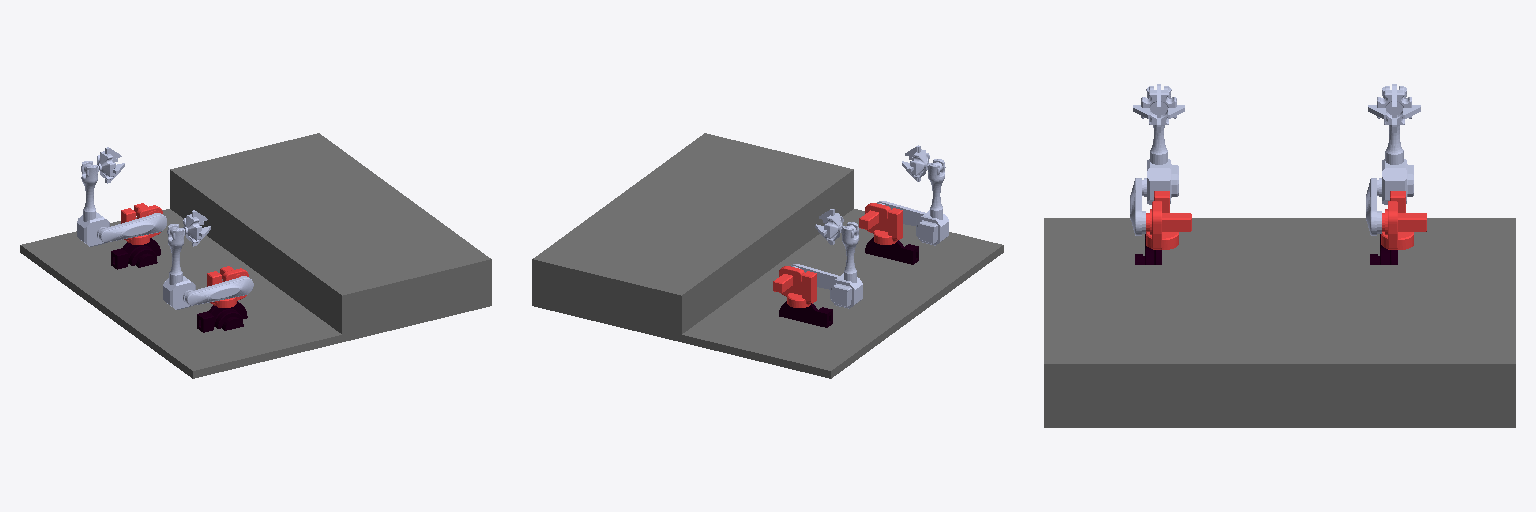
--- Facts derived from the render (not from the file) ---
3 views of the same robot in one strip: view 1: azimuth 30°, elevation 25°; view 2: azimuth 150°, elevation 25°; view 3: azimuth 270°, elevation 25° (orthographic).
Robot: my_robot — 27 links, 26 joints (10 revolute, 2 continuous, 14 fixed); root link central_base_link; default pose: every joint at zero.
Links seen in each view (by area): view 1: main_workbench_2, main_workbench, left_arm_link_2, right_arm_link_2, right_base_link, left_base_link, right_arm_link_3, left_arm_link_3, right_arm_link_1, left_arm_link_1, left_arm_link_4, right_arm_link_4; view 2: main_workbench_2, main_workbench, left_arm_link_1, right_arm_link_1, right_arm_link_3, left_arm_link_3, left_base_link, right_base_link, left_arm_link_4, right_arm_link_4; view 3: main_workbench_2, main_workbench, right_arm_link_1, left_arm_link_1, left_arm_link_3, right_arm_link_3, right_eef_link, left_eef_link, right_arm_link_2, left_arm_link_2.
Link boxes in pixels (bbox=[...]): main_workbench_2: bbox=[170, 133, 491, 341]; main_workbench: bbox=[20, 209, 341, 378]; left_arm_link_2: bbox=[99, 213, 166, 242]; right_arm_link_2: bbox=[185, 276, 253, 305]; right_base_link: bbox=[197, 301, 247, 332]; left_base_link: bbox=[111, 238, 160, 269]; right_arm_link_3: bbox=[163, 273, 195, 309]; left_arm_link_3: bbox=[77, 211, 109, 246]; right_arm_link_1: bbox=[207, 266, 248, 307]; left_arm_link_1: bbox=[121, 203, 162, 244]; left_arm_link_4: bbox=[81, 161, 98, 211]; right_arm_link_4: bbox=[167, 224, 184, 275]; main_workbench_2: bbox=[532, 133, 853, 341]; main_workbench: bbox=[682, 209, 1003, 378]; left_arm_link_1: bbox=[773, 266, 816, 307]; right_arm_link_1: bbox=[859, 203, 902, 244]; right_arm_link_3: bbox=[916, 209, 948, 245]; left_arm_link_3: bbox=[830, 272, 862, 308]; left_base_link: bbox=[779, 301, 832, 327]; right_base_link: bbox=[865, 237, 918, 264]; left_arm_link_4: bbox=[841, 222, 858, 273]; right_arm_link_4: bbox=[928, 159, 945, 210]; main_workbench_2: bbox=[1044, 265, 1515, 427]; main_workbench: bbox=[1044, 218, 1515, 264]; right_arm_link_1: bbox=[1146, 191, 1191, 249]; left_arm_link_1: bbox=[1381, 191, 1426, 249]; left_arm_link_3: bbox=[1377, 151, 1413, 204]; right_arm_link_3: bbox=[1142, 152, 1178, 204]; right_eef_link: bbox=[1141, 90, 1176, 124]; left_eef_link: bbox=[1377, 90, 1411, 124]; right_arm_link_2: bbox=[1130, 178, 1145, 235]; left_arm_link_2: bbox=[1366, 178, 1381, 235].
Size in the robot's own frame: 4 by 4 by 1.8 metres.
24 mesh visuals loaded from 12 distinct referenced files (12 binary STL).

robot.urdf — my_robot:
<?xml version="1.0" ?>
<!-- =================================================================================== -->
<!-- |    This document was autogenerated by xacro from robot.xacro                    | -->
<!-- |    EDITING THIS FILE BY HAND IS NOT RECOMMENDED                                 | -->
<!-- =================================================================================== -->
<robot name="my_robot">
  <link name="main_workbench">
    <inertial>
      <origin rpy="0 0 0" xyz="0 0 0.05"/>
      <mass value="1000.0"/>
      <inertia ixx="100" ixy="0" ixz="0" iyy="100" iyz="0" izz="100"/>
    </inertial>
    <visual>
      <origin rpy="0 0 0" xyz="0 0 0.05"/>
      <geometry>
        <box size="2 4 0.1"/>
      </geometry>
      <material name="grey">
        <color rgba="0.5 0.5 0.5 1"/>
        <!-- Workbench color -->
      </material>
    </visual>
    <collision>
      <origin rpy="0 0 0" xyz="0 0 0.05"/>
      <geometry>
        <box size="2 4 0.1"/>
      </geometry>
    </collision>
  </link>
  <link name="main_workbench_2">
    <inertial>
      <origin rpy="0 0 0" xyz="0 0 0.3"/>
      <mass value="1000.0"/>
      <inertia ixx="100" ixy="0" ixz="0" iyy="100" iyz="0" izz="100"/>
    </inertial>
    <visual>
      <origin rpy="0 0 0" xyz="0 0 0.3"/>
      <geometry>
        <box size="2 4 0.6"/>
      </geometry>
      <material name="grey">
        <color rgba="0.5 0.5 0.5 1"/>
        <!-- Workbench color -->
      </material>
    </visual>
    <collision>
      <origin rpy="0 0 0" xyz="0 0 0.3"/>
      <geometry>
        <box size="2 4 0.6"/>
      </geometry>
    </collision>
  </link>
  <!-- Main body link (central base link) -->
  <link name="central_base_link">
    <origin rpy="0 0 0" xyz="0 0 1.5"/>
    <!-- Adjusted to be above the workbench -->
  </link>
  <!-- Connect each workbench to the central base link with a fixed joint -->
  <joint name="base_to_workbench_1_joint" type="fixed">
    <parent link="central_base_link"/>
    <child link="main_workbench"/>
    <origin rpy="0 0 0" xyz="0 0 0"/>
    <!-- Adjust this origin as needed -->
  </joint>
  <joint name="base_to_workbench_2_joint" type="fixed">
    <parent link="central_base_link"/>
    <child link="main_workbench_2"/>
    <origin rpy="0 0 0" xyz="2.0 0 0"/>
    <!-- Adjust this origin as needed -->
  </joint>
  <!-- Define the base link of the arm -->
  <link name="left_base_link">
    <inertial>
      <origin rpy="0 0 0" xyz="0 1 0.1"/>
      <mass value="33.891578448587"/>
      <inertia ixx="0.562042604088221" ixy="-9.14376784490416E-12" ixz="0.00403961419511076" iyy="0.970694427805805" iyz="-7.30601560182848E-12" izz="1.29713482615658"/>
    </inertial>
    <visual>
      <origin rpy="0 0 0" xyz="0 0 0"/>
      <geometry>
        <mesh filename="package://my_robot_urdf/meshes/base_link.STL"/>
      </geometry>
      <material name="">
        <color rgba="0.152941176470588 0 0.117647058823529 1"/>
      </material>
    </visual>
    <collision>
      <origin rpy="0 0 0" xyz="0 0 0"/>
      <geometry>
        <mesh filename="package://my_robot_urdf/meshes/base_link.STL"/>
      </geometry>
    </collision>
  </link>
  <!-- Define the joint connecting this arm to the parent link -->
  <joint name="left_base_joint" type="fixed">
    <origin rpy="0 0 0" xyz="0 1 0.1"/>
    <parent link="central_base_link"/>
    <child link="left_base_link"/>
  </joint>
  <link name="left_arm_link_1">
    <inertial>
      <origin rpy="0 0 0" xyz="0.0416589398280025 -3.68988089329334E-05 0.19712083516126"/>
      <mass value="26.7048266497369"/>
      <inertia ixx="0.495499615132855" ixy="-0.0102760504758245" ixz="-0.0600935399650257" iyy="0.766768677077223" iyz="-0.0115358881770517" izz="0.604967931690783"/>
    </inertial>
    <visual>
      <origin rpy="0 0 0" xyz="0 0 0"/>
      <geometry>
        <mesh filename="package://my_robot_urdf/meshes/arm_link_1.STL"/>
      </geometry>
      <material name="">
        <color rgba="1 0.309803921568627 0.309803921568627 1"/>
      </material>
    </visual>
    <collision>
      <origin rpy="0 0 0" xyz="0 0 0"/>
      <geometry>
        <mesh filename="package://my_robot_urdf/meshes/arm_link_1.STL"/>
      </geometry>
    </collision>
  </link>
  <joint name="left_arm_joint_1" type="revolute">
    <origin rpy="0 0 0" xyz="0 0 0.234000000000013"/>
    <parent link="left_base_link"/>
    <child link="left_arm_link_1"/>
    <axis xyz="0 0 1"/>
    <limit effort="0" lower="-3.1416" upper="3.1416" velocity="0"/>
  </joint>
  <link name="left_arm_link_2">
    <inertial>
      <origin rpy="0 0 0" xyz="-0.290203503422467 0.000258724363916829 0.0707589768311214"/>
      <mass value="14.3270690802686"/>
      <inertia ixx="0.0504590836189902" ixy="4.64678003354567E-05" ixz="0.0137202067906074" iyy="0.848873613210201" iyz="-0.000175299197197552" izz="0.874803778149419"/>
    </inertial>
    <visual>
      <origin rpy="0 0 0" xyz="0 0 0"/>
      <geometry>
        <mesh filename="package://my_robot_urdf/meshes/arm_link_2.STL"/>
      </geometry>
      <material name="">
        <color rgba="0.792156862745098 0.819607843137255 0.933333333333333 1"/>
      </material>
    </visual>
    <collision>
      <origin rpy="0 0 0" xyz="0 0 0"/>
      <geometry>
        <mesh filename="package://my_robot_urdf/meshes/arm_link_2.STL"/>
      </geometry>
    </collision>
  </link>
  <joint name="left_arm_joint_2" type="revolute">
    <origin rpy="1.5707963267949 0 0" xyz="0.150000000000002 -0.1375 0.265"/>
    <parent link="left_arm_link_1"/>
    <child link="left_arm_link_2"/>
    <axis xyz="0 0 1"/>
    <limit effort="0" lower="-3.1416" upper="3.1416" velocity="0"/>
  </joint>
  <link name="left_arm_link_3">
    <inertial>
      <origin rpy="0 0 0" xyz="0.0664637155357432 0.0362614171159604 0.123132908024542"/>
      <mass value="27.1450417424437"/>
      <inertia ixx="0.420912669748457" ixy="-0.0211648441841247" ixz="-0.00675660536457725" iyy="0.344868303293538" iyz="0.00338242702861573" izz="0.473964503565446"/>
    </inertial>
    <visual>
      <origin rpy="0 0 0" xyz="0 0 0"/>
      <geometry>
        <mesh filename="package://my_robot_urdf/meshes/arm_link_3.STL"/>
      </geometry>
      <material name="">
        <color rgba="0.792156862745098 0.819607843137255 0.933333333333333 1"/>
      </material>
    </visual>
    <collision>
      <origin rpy="0 0 0" xyz="0 0 0"/>
      <geometry>
        <mesh filename="package://my_robot_urdf/meshes/arm_link_3.STL"/>
      </geometry>
    </collision>
  </link>
  <joint name="left_arm_joint_3" type="continuous">
    <origin rpy="3.14159265358979 0 3.14159265358979" xyz="-0.700000000000001 0 0"/>
    <parent link="left_arm_link_2"/>
    <child link="left_arm_link_3"/>
    <axis xyz="0 0 -1"/>
    <limit effort="0" lower="-3.1416" upper="3.1416" velocity="0"/>
  </joint>
  <link name="left_arm_link_4">
    <inertial>
      <origin rpy="0 0 0" xyz="5.19381656460816E-07 4.95817308893837E-07 0.338893744219759"/>
      <mass value="7.96664349020365"/>
      <inertia ixx="0.223048843574734" ixy="-0.000166072999280483" ixz="4.33220175839122E-07" iyy="0.215976713293833" iyz="-3.48765154255128E-07" izz="0.0300827685994122"/>
    </inertial>
    <visual>
      <origin rpy="0 0 0" xyz="0 0 0"/>
      <geometry>
        <mesh filename="package://my_robot_urdf/meshes/arm_link_4.STL"/>
      </geometry>
      <material name="">
        <color rgba="0.792156862745098 0.819607843137255 0.933333333333333 1"/>
      </material>
    </visual>
    <collision>
      <origin rpy="0 0 0" xyz="0 0 0"/>
      <geometry>
        <mesh filename="package://my_robot_urdf/meshes/arm_link_4.STL"/>
      </geometry>
    </collision>
  </link>
  <joint name="left_arm_joint_4" type="revolute">
    <origin rpy="1.5707963267949 0 3.14159265358979" xyz="0.115 0.289996513803296 0.11"/>
    <parent link="left_arm_link_3"/>
    <child link="left_arm_link_4"/>
    <axis xyz="0 0 1"/>
    <limit effort="0" lower="-3.1416" upper="3.1416" velocity="0"/>
  </joint>
  <link name="left_arm_link_5">
    <inertial>
      <origin rpy="0 0 0" xyz="-0.00224018993807718 -7.93515697594671E-10 -4.63650767085211E-10"/>
      <mass value="0.961734748124672"/>
      <inertia ixx="0.00154678090917305" ixy="8.85889008790739E-10" ixz="1.41969821668856E-11" iyy="0.00143991315628678" iyz="9.91727417863987E-10" izz="0.00165625576362529"/>
    </inertial>
    <visual>
      <origin rpy="0 0 0" xyz="0 0 0"/>
      <geometry>
        <mesh filename="package://my_robot_urdf/meshes/arm_link_5.STL"/>
      </geometry>
      <material name="">
        <color rgba="0.792156862745098 0.819607843137255 0.933333333333333 1"/>
      </material>
    </visual>
    <collision>
      <origin rpy="0 0 0" xyz="0 0 0"/>
      <geometry>
        <mesh filename="package://my_robot_urdf/meshes/arm_link_5.STL"/>
      </geometry>
    </collision>
  </link>
  <joint name="left_arm_joint_5" type="revolute">
    <origin rpy="1.5707963267949 0 0" xyz="0 0 0.510003486196704"/>
    <parent link="left_arm_link_4"/>
    <child link="left_arm_link_5"/>
    <axis xyz="0 0 1"/>
    <limit effort="0" lower="-4.7124" upper="1.5708" velocity="0"/>
  </joint>
  <link name="left_arm_link_6">
    <inertial>
      <origin rpy="0 0 0" xyz="2.47238263195726E-08 2.0518347576548E-09 0.052725963344278"/>
      <mass value="0.288779624800079"/>
      <inertia ixx="0.000386925186804297" ixy="-2.51402341445703E-12" ixz="-3.11942429904297E-13" iyy="0.000386925215104185" iyz="-2.74312353784785E-14" izz="0.000212753902483572"/>
    </inertial>
    <visual>
      <origin rpy="0 0 0" xyz="0 0 0"/>
      <geometry>
        <mesh filename="package://my_robot_urdf/meshes/arm_link_6.STL"/>
      </geometry>
      <material name="">
        <color rgba="0.792156862745098 0.819607843137255 0.933333333333333 1"/>
      </material>
    </visual>
    <collision>
      <origin rpy="0 0 0" xyz="0 0 0"/>
      <geometry>
        <mesh filename="package://my_robot_urdf/meshes/arm_link_6.STL"/>
      </geometry>
    </collision>
  </link>
  <joint name="left_arm_joint_6" type="revolute">
    <origin rpy="-1.5707963267949 0 -1.5707963267949" xyz="0.0450000000000004 0 0"/>
    <parent link="left_arm_link_5"/>
    <child link="left_arm_link_6"/>
    <axis xyz="0 0 1"/>
    <limit effort="0" lower="-3.1416" upper="3.1416" velocity="0"/>
  </joint>
  <link name="left_eef_link">
    <inertial>
      <origin rpy="0 0 0" xyz="-9.30830701406649E-09 -4.47423127714064E-09 -0.0188761945416884"/>
      <mass value="5.46782575492837"/>
      <inertia ixx="0.0365076087226209" ixy="-1.69594623176887E-09" ixz="2.84396742647187E-09" iyy="0.0365076302641158" iyz="1.3669924295319E-09" izz="0.0627860547898383"/>
    </inertial>
    <visual>
      <origin rpy="0 0 0" xyz="0 0 0"/>
      <geometry>
        <mesh filename="package://my_robot_urdf/meshes/eef_link.STL"/>
      </geometry>
      <material name="">
        <color rgba="0.792156862745098 0.819607843137255 0.933333333333333 1"/>
      </material>
    </visual>
    <collision>
      <origin rpy="0 0 0" xyz="0 0 0"/>
      <geometry>
        <mesh filename="package://my_robot_urdf/meshes/eef_link.STL"/>
      </geometry>
    </collision>
  </link>
  <joint name="left_eef_link_fixed" type="fixed">
    <origin rpy="3.14159265358979 0 3.14159265358979" xyz="0 0 0.145"/>
    <parent link="left_arm_link_6"/>
    <child link="left_eef_link"/>
    <axis xyz="0 0 0"/>
  </joint>
  <link name="left_eef_jaw_1">
    <inertial>
      <origin rpy="0 0 0" xyz="0.0869730343447335 -0.02 0.0799489474646907"/>
      <mass value="0.672155087926634"/>
      <inertia ixx="0.00170709281582639" ixy="-2.10297489845672E-19" ixz="-0.000828153130362926" iyy="0.00264620439405273" iyz="-1.13884847286996E-19" izz="0.00111534333500677"/>
    </inertial>
    <visual>
      <origin rpy="0 0 0" xyz="0 0 0"/>
      <geometry>
        <mesh filename="package://my_robot_urdf/meshes/eef_jaw_1.STL"/>
      </geometry>
      <material name="">
        <color rgba="0.792156862745098 0.819607843137255 0.933333333333333 1"/>
      </material>
    </visual>
    <collision>
      <origin rpy="0 0 0" xyz="0 0 0"/>
      <geometry>
        <mesh filename="package://my_robot_urdf/meshes/eef_jaw_1.STL"/>
      </geometry>
    </collision>
  </link>
  <joint name="left_eef_jaw_1_joint_fixed" type="fixed">
    <origin rpy="3.14159265358979 0 0" xyz="-0.222284161474005 -0.0199999999999985 -0.0299999999999994"/>
    <parent link="left_eef_link"/>
    <child link="left_eef_jaw_1"/>
    <axis xyz="0 0 0"/>
  </joint>
  <link name="left_eef_jaw_2">
    <inertial>
      <origin rpy="0 0 0" xyz="0.0869730343447341 0.02 -0.0799489474646903"/>
      <mass value="0.672155087926635"/>
      <inertia ixx="0.00170709281582639" ixy="-5.6339619860202E-19" ixz="0.000828153130362932" iyy="0.00264620439405273" iyz="3.28558952421928E-19" izz="0.00111534333500678"/>
    </inertial>
    <visual>
      <origin rpy="0 0 0" xyz="0 0 0"/>
      <geometry>
        <mesh filename="package://my_robot_urdf/meshes/eef_jaw_2.STL"/>
      </geometry>
      <material name="">
        <color rgba="0.792156862745098 0.819607843137255 0.933333333333333 1"/>
      </material>
    </visual>
    <collision>
      <origin rpy="0 0 0" xyz="0 0 0"/>
      <geometry>
        <mesh filename="package://my_robot_urdf/meshes/eef_jaw_2.STL"/>
      </geometry>
    </collision>
  </link>
  <joint name="left_eef_jaw_2_joint_fixed" type="fixed">
    <origin rpy="0 0 3.14159265358979" xyz="0.222284161474005 0.0200000000000028 -0.0300000000000008"/>
    <parent link="left_eef_link"/>
    <child link="left_eef_jaw_2"/>
    <axis xyz="0 0 0"/>
  </joint>
  <link name="left_eef_jaw_3">
    <inertial>
      <origin rpy="0 0 0" xyz="0.0869730343447339 0.0199999999999998 -0.0799489474646904"/>
      <mass value="0.672155087926635"/>
      <inertia ixx="0.00170709281582639" ixy="1.22645739197657E-18" ixz="0.000828153130362931" iyy="0.00264620439405273" iyz="-2.65524845194663E-18" izz="0.00111534333500678"/>
    </inertial>
    <visual>
      <origin rpy="0 0 0" xyz="0 0 0"/>
      <geometry>
        <mesh filename="package://my_robot_urdf/meshes/eef_jaw_3.STL"/>
      </geometry>
      <material name="">
        <color rgba="0.792156862745098 0.819607843137255 0.933333333333333 1"/>
      </material>
    </visual>
    <collision>
      <origin rpy="0 0 0" xyz="0 0 0"/>
      <geometry>
        <mesh filename="package://my_robot_urdf/meshes/eef_jaw_3.STL"/>
      </geometry>
    </collision>
  </link>
  <joint name="left_eef_jaw_3_joint_fixed" type="fixed">
    <origin rpy="0 0 1.5707963267949" xyz="0.02 -0.222284161474003 -0.03"/>
    <parent link="left_eef_link"/>
    <child link="left_eef_jaw_3"/>
    <axis xyz="0 0 0"/>
  </joint>
  <link name="left_eef_jaw_4">
    <inertial>
      <origin rpy="0 0 0" xyz="0.0869730343447339 0.02 -0.0799489474646904"/>
      <mass value="0.672155087926635"/>
      <inertia ixx="0.00170709281582639" ixy="-7.21958594590805E-19" ixz="0.00082815313036293" iyy="0.00264620439405273" iyz="3.18822450133064E-18" izz="0.00111534333500678"/>
    </inertial>
    <visual>
      <origin rpy="0 0 0" xyz="0 0 0"/>
      <geometry>
        <mesh filename="package://my_robot_urdf/meshes/eef_jaw_4.STL"/>
      </geometry>
      <material name="">
        <color rgba="0.792156862745098 0.819607843137255 0.933333333333333 1"/>
      </material>
    </visual>
    <collision>
      <origin rpy="0 0 0" xyz="0 0 0"/>
      <geometry>
        <mesh filename="package://my_robot_urdf/meshes/eef_jaw_4.STL"/>
      </geometry>
    </collision>
  </link>
  <joint name="left_eef_jaw_4_joint_fixed" type="fixed">
    <origin rpy="0 0 -1.5707963267949" xyz="-0.0200000000000002 0.222284161474006 -0.0299999999999999"/>
    <parent link="left_eef_link"/>
    <child link="left_eef_jaw_4"/>
    <axis xyz="0 0 0"/>
  </joint>
  <!-- Define the base link of the arm -->
  <link name="right_base_link">
    <inertial>
      <origin rpy="0 0 0" xyz="0 -1 0.1"/>
      <mass value="33.891578448587"/>
      <inertia ixx="0.562042604088221" ixy="-9.14376784490416E-12" ixz="0.00403961419511076" iyy="0.970694427805805" iyz="-7.30601560182848E-12" izz="1.29713482615658"/>
    </inertial>
    <visual>
      <origin rpy="0 0 0" xyz="0 0 0"/>
      <geometry>
        <mesh filename="package://my_robot_urdf/meshes/base_link.STL"/>
      </geometry>
      <material name="">
        <color rgba="0.152941176470588 0 0.117647058823529 1"/>
      </material>
    </visual>
    <collision>
      <origin rpy="0 0 0" xyz="0 0 0"/>
      <geometry>
        <mesh filename="package://my_robot_urdf/meshes/base_link.STL"/>
      </geometry>
    </collision>
  </link>
  <!-- Define the joint connecting this arm to the parent link -->
  <joint name="right_base_joint" type="fixed">
    <origin rpy="0 0 0" xyz="0 -1 0.1"/>
    <parent link="central_base_link"/>
    <child link="right_base_link"/>
  </joint>
  <link name="right_arm_link_1">
    <inertial>
      <origin rpy="0 0 0" xyz="0.0416589398280025 -3.68988089329334E-05 0.19712083516126"/>
      <mass value="26.7048266497369"/>
      <inertia ixx="0.495499615132855" ixy="-0.0102760504758245" ixz="-0.0600935399650257" iyy="0.766768677077223" iyz="-0.0115358881770517" izz="0.604967931690783"/>
    </inertial>
    <visual>
      <origin rpy="0 0 0" xyz="0 0 0"/>
      <geometry>
        <mesh filename="package://my_robot_urdf/meshes/arm_link_1.STL"/>
      </geometry>
      <material name="">
        <color rgba="1 0.309803921568627 0.309803921568627 1"/>
      </material>
    </visual>
    <collision>
      <origin rpy="0 0 0" xyz="0 0 0"/>
      <geometry>
        <mesh filename="package://my_robot_urdf/meshes/arm_link_1.STL"/>
      </geometry>
    </collision>
  </link>
  <joint name="right_arm_joint_1" type="revolute">
    <origin rpy="0 0 0" xyz="0 0 0.234000000000013"/>
    <parent link="right_base_link"/>
    <child link="right_arm_link_1"/>
    <axis xyz="0 0 1"/>
    <limit effort="0" lower="-3.1416" upper="3.1416" velocity="0"/>
  </joint>
  <link name="right_arm_link_2">
    <inertial>
      <origin rpy="0 0 0" xyz="-0.290203503422467 0.000258724363916829 0.0707589768311214"/>
      <mass value="14.3270690802686"/>
      <inertia ixx="0.0504590836189902" ixy="4.64678003354567E-05" ixz="0.0137202067906074" iyy="0.848873613210201" iyz="-0.000175299197197552" izz="0.874803778149419"/>
    </inertial>
    <visual>
      <origin rpy="0 0 0" xyz="0 0 0"/>
      <geometry>
        <mesh filename="package://my_robot_urdf/meshes/arm_link_2.STL"/>
      </geometry>
      <material name="">
        <color rgba="0.792156862745098 0.819607843137255 0.933333333333333 1"/>
      </material>
    </visual>
    <collision>
      <origin rpy="0 0 0" xyz="0 0 0"/>
      <geometry>
        <mesh filename="package://my_robot_urdf/meshes/arm_link_2.STL"/>
      </geometry>
    </collision>
  </link>
  <joint name="right_arm_joint_2" type="revolute">
    <origin rpy="1.5707963267949 0 0" xyz="0.150000000000002 -0.1375 0.265"/>
    <parent link="right_arm_link_1"/>
    <child link="right_arm_link_2"/>
    <axis xyz="0 0 1"/>
    <limit effort="0" lower="-3.1416" upper="3.1416" velocity="0"/>
  </joint>
  <link name="right_arm_link_3">
    <inertial>
      <origin rpy="0 0 0" xyz="0.0664637155357432 0.0362614171159604 0.123132908024542"/>
      <mass value="27.1450417424437"/>
      <inertia ixx="0.420912669748457" ixy="-0.0211648441841247" ixz="-0.00675660536457725" iyy="0.344868303293538" iyz="0.00338242702861573" izz="0.473964503565446"/>
    </inertial>
    <visual>
      <origin rpy="0 0 0" xyz="0 0 0"/>
      <geometry>
        <mesh filename="package://my_robot_urdf/meshes/arm_link_3.STL"/>
      </geometry>
      <material name="">
        <color rgba="0.792156862745098 0.819607843137255 0.933333333333333 1"/>
      </material>
    </visual>
    <collision>
      <origin rpy="0 0 0" xyz="0 0 0"/>
      <geometry>
        <mesh filename="package://my_robot_urdf/meshes/arm_link_3.STL"/>
      </geometry>
    </collision>
  </link>
  <joint name="right_arm_joint_3" type="continuous">
    <origin rpy="3.14159265358979 0 3.14159265358979" xyz="-0.700000000000001 0 0"/>
    <parent link="right_arm_link_2"/>
    <child link="right_arm_link_3"/>
    <axis xyz="0 0 -1"/>
    <limit effort="0" lower="-3.1416" upper="3.1416" velocity="0"/>
  </joint>
  <link name="right_arm_link_4">
    <inertial>
      <origin rpy="0 0 0" xyz="5.19381656460816E-07 4.95817308893837E-07 0.338893744219759"/>
      <mass value="7.96664349020365"/>
      <inertia ixx="0.223048843574734" ixy="-0.000166072999280483" ixz="4.33220175839122E-07" iyy="0.215976713293833" iyz="-3.48765154255128E-07" izz="0.0300827685994122"/>
    </inertial>
    <visual>
      <origin rpy="0 0 0" xyz="0 0 0"/>
      <geometry>
        <mesh filename="package://my_robot_urdf/meshes/arm_link_4.STL"/>
      </geometry>
      <material name="">
        <color rgba="0.792156862745098 0.819607843137255 0.933333333333333 1"/>
      </material>
    </visual>
    <collision>
      <origin rpy="0 0 0" xyz="0 0 0"/>
      <geometry>
        <mesh filename="package://my_robot_urdf/meshes/arm_link_4.STL"/>
      </geometry>
    </collision>
  </link>
  <joint name="right_arm_joint_4" type="revolute">
    <origin rpy="1.5707963267949 0 3.14159265358979" xyz="0.115 0.289996513803296 0.11"/>
    <parent link="right_arm_link_3"/>
    <child link="right_arm_link_4"/>
    <axis xyz="0 0 1"/>
    <limit effort="0" lower="-3.1416" upper="3.1416" velocity="0"/>
  </joint>
  <link name="right_arm_link_5">
    <inertial>
      <origin rpy="0 0 0" xyz="-0.00224018993807718 -7.93515697594671E-10 -4.63650767085211E-10"/>
      <mass value="0.961734748124672"/>
      <inertia ixx="0.00154678090917305" ixy="8.85889008790739E-10" ixz="1.41969821668856E-11" iyy="0.00143991315628678" iyz="9.91727417863987E-10" izz="0.00165625576362529"/>
    </inertial>
    <visual>
      <origin rpy="0 0 0" xyz="0 0 0"/>
      <geometry>
        <mesh filename="package://my_robot_urdf/meshes/arm_link_5.STL"/>
      </geometry>
      <material name="">
        <color rgba="0.792156862745098 0.819607843137255 0.933333333333333 1"/>
      </material>
    </visual>
    <collision>
      <origin rpy="0 0 0" xyz="0 0 0"/>
      <geometry>
        <mesh filename="package://my_robot_urdf/meshes/arm_link_5.STL"/>
      </geometry>
    </collision>
  </link>
  <joint name="right_arm_joint_5" type="revolute">
    <origin rpy="1.5707963267949 0 0" xyz="0 0 0.510003486196704"/>
    <parent link="right_arm_link_4"/>
    <child link="right_arm_link_5"/>
    <axis xyz="0 0 1"/>
    <limit effort="0" lower="-4.7124" upper="1.5708" velocity="0"/>
  </joint>
  <link name="right_arm_link_6">
    <inertial>
      <origin rpy="0 0 0" xyz="2.47238263195726E-08 2.0518347576548E-09 0.052725963344278"/>
      <mass value="0.288779624800079"/>
      <inertia ixx="0.000386925186804297" ixy="-2.51402341445703E-12" ixz="-3.11942429904297E-13" iyy="0.000386925215104185" iyz="-2.74312353784785E-14" izz="0.000212753902483572"/>
    </inertial>
    <visual>
      <origin rpy="0 0 0" xyz="0 0 0"/>
      <geometry>
        <mesh filename="package://my_robot_urdf/meshes/arm_link_6.STL"/>
      </geometry>
      <material name="">
        <color rgba="0.792156862745098 0.819607843137255 0.933333333333333 1"/>
      </material>
    </visual>
    <collision>
      <origin rpy="0 0 0" xyz="0 0 0"/>
      <geometry>
        <mesh filename="package://my_robot_urdf/meshes/arm_link_6.STL"/>
      </geometry>
    </collision>
  </link>
  <joint name="right_arm_joint_6" type="revolute">
    <origin rpy="-1.5707963267949 0 -1.5707963267949" xyz="0.0450000000000004 0 0"/>
    <parent link="right_arm_link_5"/>
    <child link="right_arm_link_6"/>
    <axis xyz="0 0 1"/>
    <limit effort="0" lower="-3.1416" upper="3.1416" velocity="0"/>
  </joint>
  <link name="right_eef_link">
    <inertial>
      <origin rpy="0 0 0" xyz="-9.30830701406649E-09 -4.47423127714064E-09 -0.0188761945416884"/>
      <mass value="5.46782575492837"/>
      <inertia ixx="0.0365076087226209" ixy="-1.69594623176887E-09" ixz="2.84396742647187E-09" iyy="0.0365076302641158" iyz="1.3669924295319E-09" izz="0.0627860547898383"/>
    </inertial>
    <visual>
      <origin rpy="0 0 0" xyz="0 0 0"/>
      <geometry>
        <mesh filename="package://my_robot_urdf/meshes/eef_link.STL"/>
      </geometry>
      <material name="">
        <color rgba="0.792156862745098 0.819607843137255 0.933333333333333 1"/>
      </material>
    </visual>
    <collision>
      <origin rpy="0 0 0" xyz="0 0 0"/>
      <geometry>
        <mesh filename="package://my_robot_urdf/meshes/eef_link.STL"/>
      </geometry>
    </collision>
  </link>
  <joint name="right_eef_link_fixed" type="fixed">
    <origin rpy="3.14159265358979 0 3.14159265358979" xyz="0 0 0.145"/>
    <parent link="right_arm_link_6"/>
    <child link="right_eef_link"/>
    <axis xyz="0 0 0"/>
  </joint>
  <link name="right_eef_jaw_1">
    <inertial>
      <origin rpy="0 0 0" xyz="0.0869730343447335 -0.02 0.0799489474646907"/>
      <mass value="0.672155087926634"/>
      <inertia ixx="0.00170709281582639" ixy="-2.10297489845672E-19" ixz="-0.000828153130362926" iyy="0.00264620439405273" iyz="-1.13884847286996E-19" izz="0.00111534333500677"/>
    </inertial>
    <visual>
      <origin rpy="0 0 0" xyz="0 0 0"/>
      <geometry>
        <mesh filename="package://my_robot_urdf/meshes/eef_jaw_1.STL"/>
      </geometry>
      <material name="">
        <color rgba="0.792156862745098 0.819607843137255 0.933333333333333 1"/>
      </material>
    </visual>
    <collision>
      <origin rpy="0 0 0" xyz="0 0 0"/>
      <geometry>
        <mesh filename="package://my_robot_urdf/meshes/eef_jaw_1.STL"/>
      </geometry>
    </collision>
  </link>
  <joint name="right_eef_jaw_1_joint_fixed" type="fixed">
    <origin rpy="3.14159265358979 0 0" xyz="-0.222284161474005 -0.0199999999999985 -0.0299999999999994"/>
    <parent link="right_eef_link"/>
    <child link="right_eef_jaw_1"/>
    <axis xyz="0 0 0"/>
  </joint>
  <link name="right_eef_jaw_2">
    <inertial>
      <origin rpy="0 0 0" xyz="0.0869730343447341 0.02 -0.0799489474646903"/>
      <mass value="0.672155087926635"/>
      <inertia ixx="0.00170709281582639" ixy="-5.6339619860202E-19" ixz="0.000828153130362932" iyy="0.00264620439405273" iyz="3.28558952421928E-19" izz="0.00111534333500678"/>
    </inertial>
    <visual>
      <origin rpy="0 0 0" xyz="0 0 0"/>
      <geometry>
        <mesh filename="package://my_robot_urdf/meshes/eef_jaw_2.STL"/>
      </geometry>
      <material name="">
        <color rgba="0.792156862745098 0.819607843137255 0.933333333333333 1"/>
      </material>
    </visual>
    <collision>
      <origin rpy="0 0 0" xyz="0 0 0"/>
      <geometry>
        <mesh filename="package://my_robot_urdf/meshes/eef_jaw_2.STL"/>
      </geometry>
    </collision>
  </link>
  <joint name="right_eef_jaw_2_joint_fixed" type="fixed">
    <origin rpy="0 0 3.14159265358979" xyz="0.222284161474005 0.0200000000000028 -0.0300000000000008"/>
    <parent link="right_eef_link"/>
    <child link="right_eef_jaw_2"/>
    <axis xyz="0 0 0"/>
  </joint>
  <link name="right_eef_jaw_3">
    <inertial>
      <origin rpy="0 0 0" xyz="0.0869730343447339 0.0199999999999998 -0.0799489474646904"/>
      <mass value="0.672155087926635"/>
      <inertia ixx="0.00170709281582639" ixy="1.22645739197657E-18" ixz="0.000828153130362931" iyy="0.00264620439405273" iyz="-2.65524845194663E-18" izz="0.00111534333500678"/>
    </inertial>
    <visual>
      <origin rpy="0 0 0" xyz="0 0 0"/>
      <geometry>
        <mesh filename="package://my_robot_urdf/meshes/eef_jaw_3.STL"/>
      </geometry>
      <material name="">
        <color rgba="0.792156862745098 0.819607843137255 0.933333333333333 1"/>
      </material>
    </visual>
    <collision>
      <origin rpy="0 0 0" xyz="0 0 0"/>
      <geometry>
        <mesh filename="package://my_robot_urdf/meshes/eef_jaw_3.STL"/>
      </geometry>
    </collision>
  </link>
  <joint name="right_eef_jaw_3_joint_fixed" type="fixed">
    <origin rpy="0 0 1.5707963267949" xyz="0.02 -0.222284161474003 -0.03"/>
    <parent link="right_eef_link"/>
    <child link="right_eef_jaw_3"/>
    <axis xyz="0 0 0"/>
  </joint>
  <link name="right_eef_jaw_4">
    <inertial>
      <origin rpy="0 0 0" xyz="0.0869730343447339 0.02 -0.0799489474646904"/>
      <mass value="0.672155087926635"/>
      <inertia ixx="0.00170709281582639" ixy="-7.21958594590805E-19" ixz="0.00082815313036293" iyy="0.00264620439405273" iyz="3.18822450133064E-18" izz="0.00111534333500678"/>
    </inertial>
    <visual>
      <origin rpy="0 0 0" xyz="0 0 0"/>
      <geometry>
        <mesh filename="package://my_robot_urdf/meshes/eef_jaw_4.STL"/>
      </geometry>
      <material name="">
        <color rgba="0.792156862745098 0.819607843137255 0.933333333333333 1"/>
      </material>
    </visual>
    <collision>
      <origin rpy="0 0 0" xyz="0 0 0"/>
      <geometry>
        <mesh filename="package://my_robot_urdf/meshes/eef_jaw_4.STL"/>
      </geometry>
    </collision>
  </link>
  <joint name="right_eef_jaw_4_joint_fixed" type="fixed">
    <origin rpy="0 0 -1.5707963267949" xyz="-0.0200000000000002 0.222284161474006 -0.0299999999999999"/>
    <parent link="right_eef_link"/>
    <child link="right_eef_jaw_4"/>
    <axis xyz="0 0 0"/>
  </joint>
</robot>
